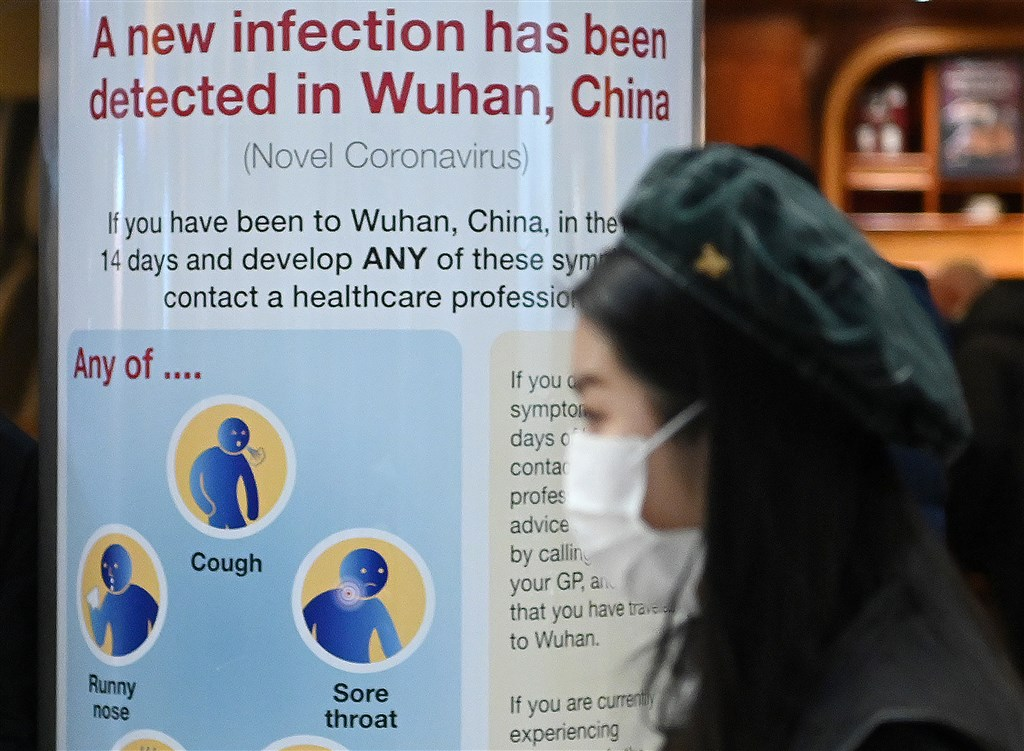Mask: (563, 299, 731, 618)
